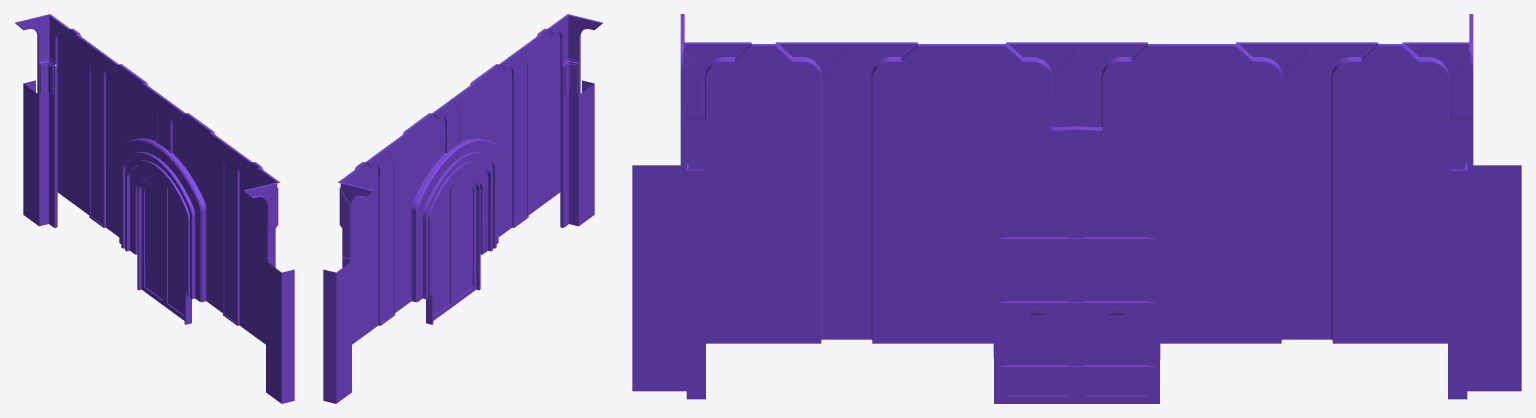
The model's file is GRP_Cour_02_Atlas.fbx.
3 views of the same model, side by side, from view 1: azimuth 30°, elevation 25°; view 2: azimuth 150°, elevation 25°; view 3: azimuth 270°, elevation 25° (orthographic). The views are drawn at different scales.
Parts seen in each view (by area): view 1: SM_Cour_Atlas_2_14, SM_Cour_Atlas_2_02, SM_Cour_Atlas_2_13, SM_Cour_Atlas_2_09, SM_Cour_Atlas_2_05, SM_Cour_Atlas_2_11, SM_Cour_Atlas_2_07, SM_Cour_Atlas_2_12, SM_Cour_Atlas_2_06, SM_Cour_Atlas_2_10, SM_Cour_Atlas_2_08, SM_Cour_Atlas_2_04 (+1 smaller); view 2: SM_Cour_Atlas_2_09, SM_Cour_Atlas_2_02, SM_Cour_Atlas_2_07, SM_Cour_Atlas_2_14, SM_Cour_Atlas_2_11, SM_Cour_Atlas_2_05, SM_Cour_Atlas_2_13, SM_Cour_Atlas_2_06, SM_Cour_Atlas_2_12, SM_Cour_Atlas_2_08, SM_Cour_Atlas_2_10, SM_Cour_Atlas_2_04 (+1 smaller); view 3: SM_Cour_Atlas_2_07, SM_Cour_Atlas_2_13, SM_Cour_Atlas_2_02, SM_Cour_Atlas_2_05, SM_Cour_Atlas_2_11, SM_Cour_Atlas_2_09, SM_Cour_Atlas_2_14, SM_Cour_Atlas_2_06, SM_Cour_Atlas_2_12, SM_Cour_Atlas_2_08, SM_Cour_Atlas_2_10, SM_Cour_Atlas_2_04 (+1 smaller).
Part boxes in pixels (x1,y1,x2,y2): SM_Cour_Atlas_2_14: (15,14,70,227); SM_Cour_Atlas_2_02: (119,138,206,302); SM_Cour_Atlas_2_13: (57,28,89,214); SM_Cour_Atlas_2_09: (244,167,294,403); SM_Cour_Atlas_2_05: (172,113,222,312); SM_Cour_Atlas_2_11: (106,64,155,236); SM_Cour_Atlas_2_07: (239,162,275,344); SM_Cour_Atlas_2_12: (76,34,118,227); SM_Cour_Atlas_2_06: (210,132,252,325); SM_Cour_Atlas_2_10: (141,178,164,305); SM_Cour_Atlas_2_08: (164,185,184,320); SM_Cour_Atlas_2_04: (143,83,185,153); SM_Cour_Atlas_2_09: (547,14,602,227); SM_Cour_Atlas_2_02: (411,138,498,302); SM_Cour_Atlas_2_07: (528,28,560,214); SM_Cour_Atlas_2_14: (323,167,373,403); SM_Cour_Atlas_2_11: (395,113,445,312); SM_Cour_Atlas_2_05: (462,64,511,236); SM_Cour_Atlas_2_13: (342,162,378,344); SM_Cour_Atlas_2_06: (499,34,541,227); SM_Cour_Atlas_2_12: (365,132,407,325); SM_Cour_Atlas_2_08: (453,178,476,305); SM_Cour_Atlas_2_10: (433,185,453,320); SM_Cour_Atlas_2_04: (432,83,474,153); SM_Cour_Atlas_2_07: (705,44,821,343); SM_Cour_Atlas_2_13: (1332,44,1448,343); SM_Cour_Atlas_2_02: (935,126,1218,343); SM_Cour_Atlas_2_05: (872,44,1051,343); SM_Cour_Atlas_2_11: (1102,44,1281,343); SM_Cour_Atlas_2_09: (632,14,751,399); SM_Cour_Atlas_2_14: (1402,14,1521,399); SM_Cour_Atlas_2_06: (775,42,917,339); SM_Cour_Atlas_2_12: (1236,42,1378,339); SM_Cour_Atlas_2_08: (998,188,1076,403); SM_Cour_Atlas_2_10: (1077,188,1155,403); SM_Cour_Atlas_2_04: (1006,42,1147,127).
Bounding box in the file's own units: 99.21 × 475 × 1070.
